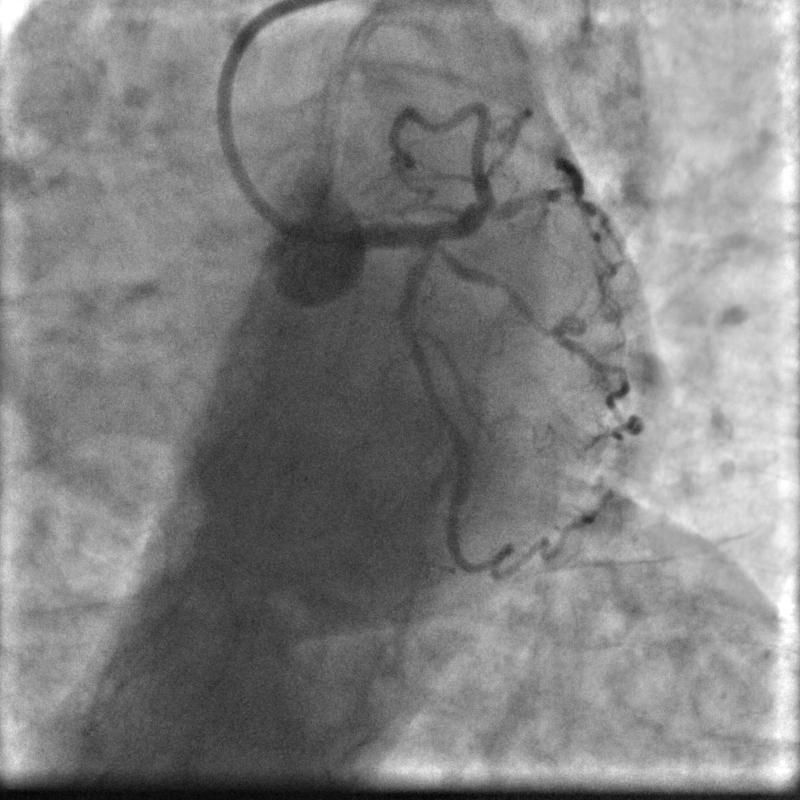Stenosis: (397, 312, 422, 352)
